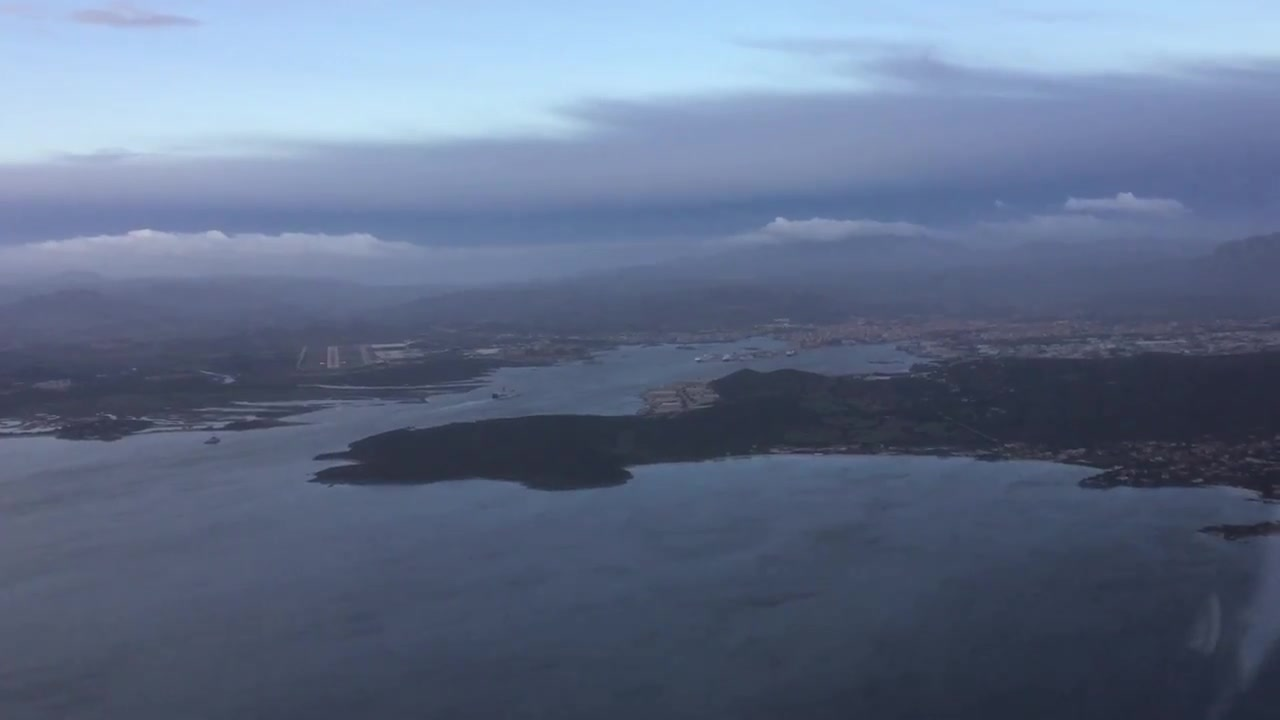runway: (324, 342, 342, 372)
